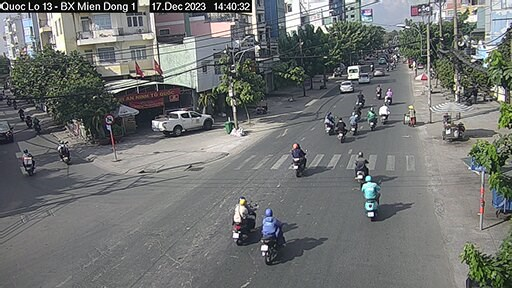car: (151, 110, 213, 134), (339, 79, 355, 96), (357, 68, 371, 83), (346, 65, 359, 81)
motorbike: (257, 206, 290, 260), (361, 178, 384, 219), (232, 201, 253, 240), (350, 150, 372, 184), (288, 141, 307, 176), (57, 139, 76, 167), (336, 118, 348, 141), (22, 149, 34, 172), (378, 104, 389, 129), (350, 110, 361, 134), (364, 108, 376, 130), (384, 85, 394, 107), (323, 112, 334, 131)
